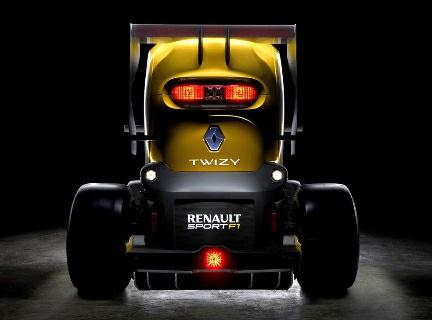雷诺-Twizy: (62, 6, 369, 308)
